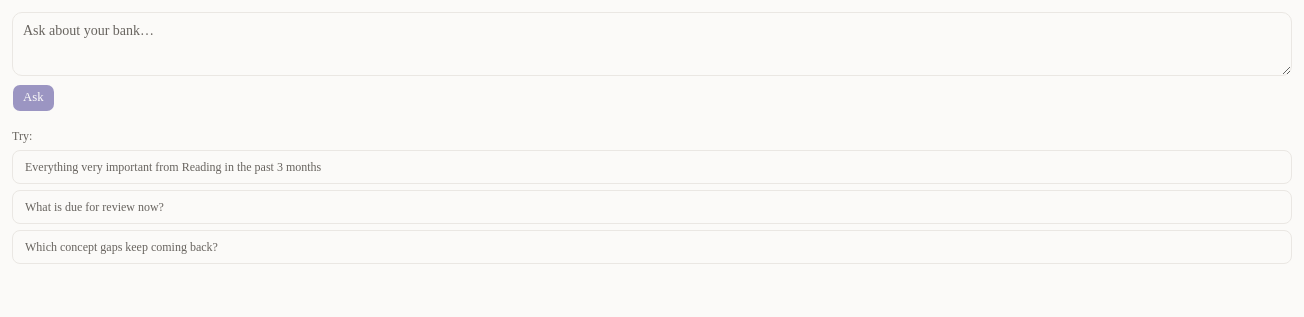
Test case: Ask › says when the offline assistant answered, so it is not mistaken for a search
In the text box labelled "Ask about your bank": (652, 44) top-left (12, 12), bottom-right (1292, 76), type "everything"
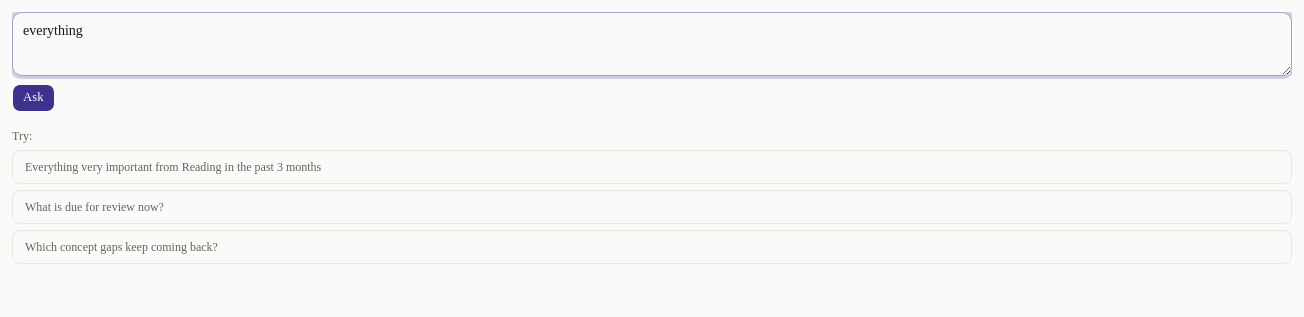
Click the button "Ask": (33, 98) top-left (12, 84), bottom-right (55, 112)
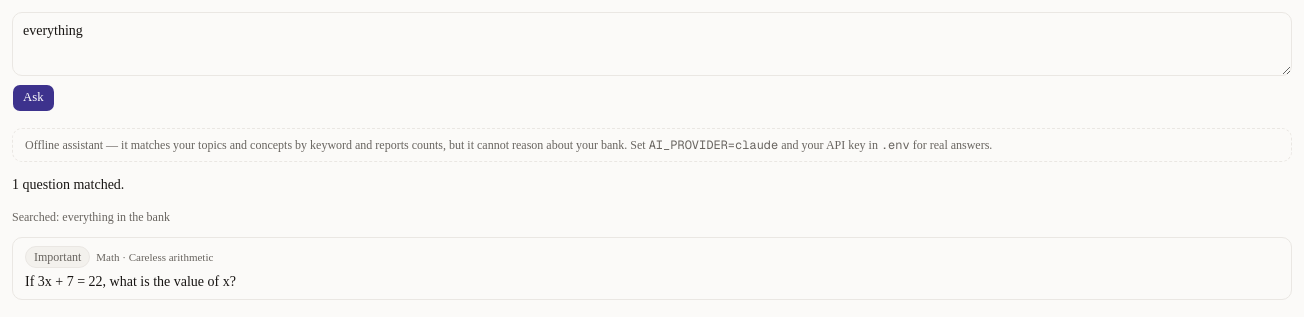
expect the text "Offline assistant" is shown: met, box top-left (25, 138), bottom-right (646, 152)
